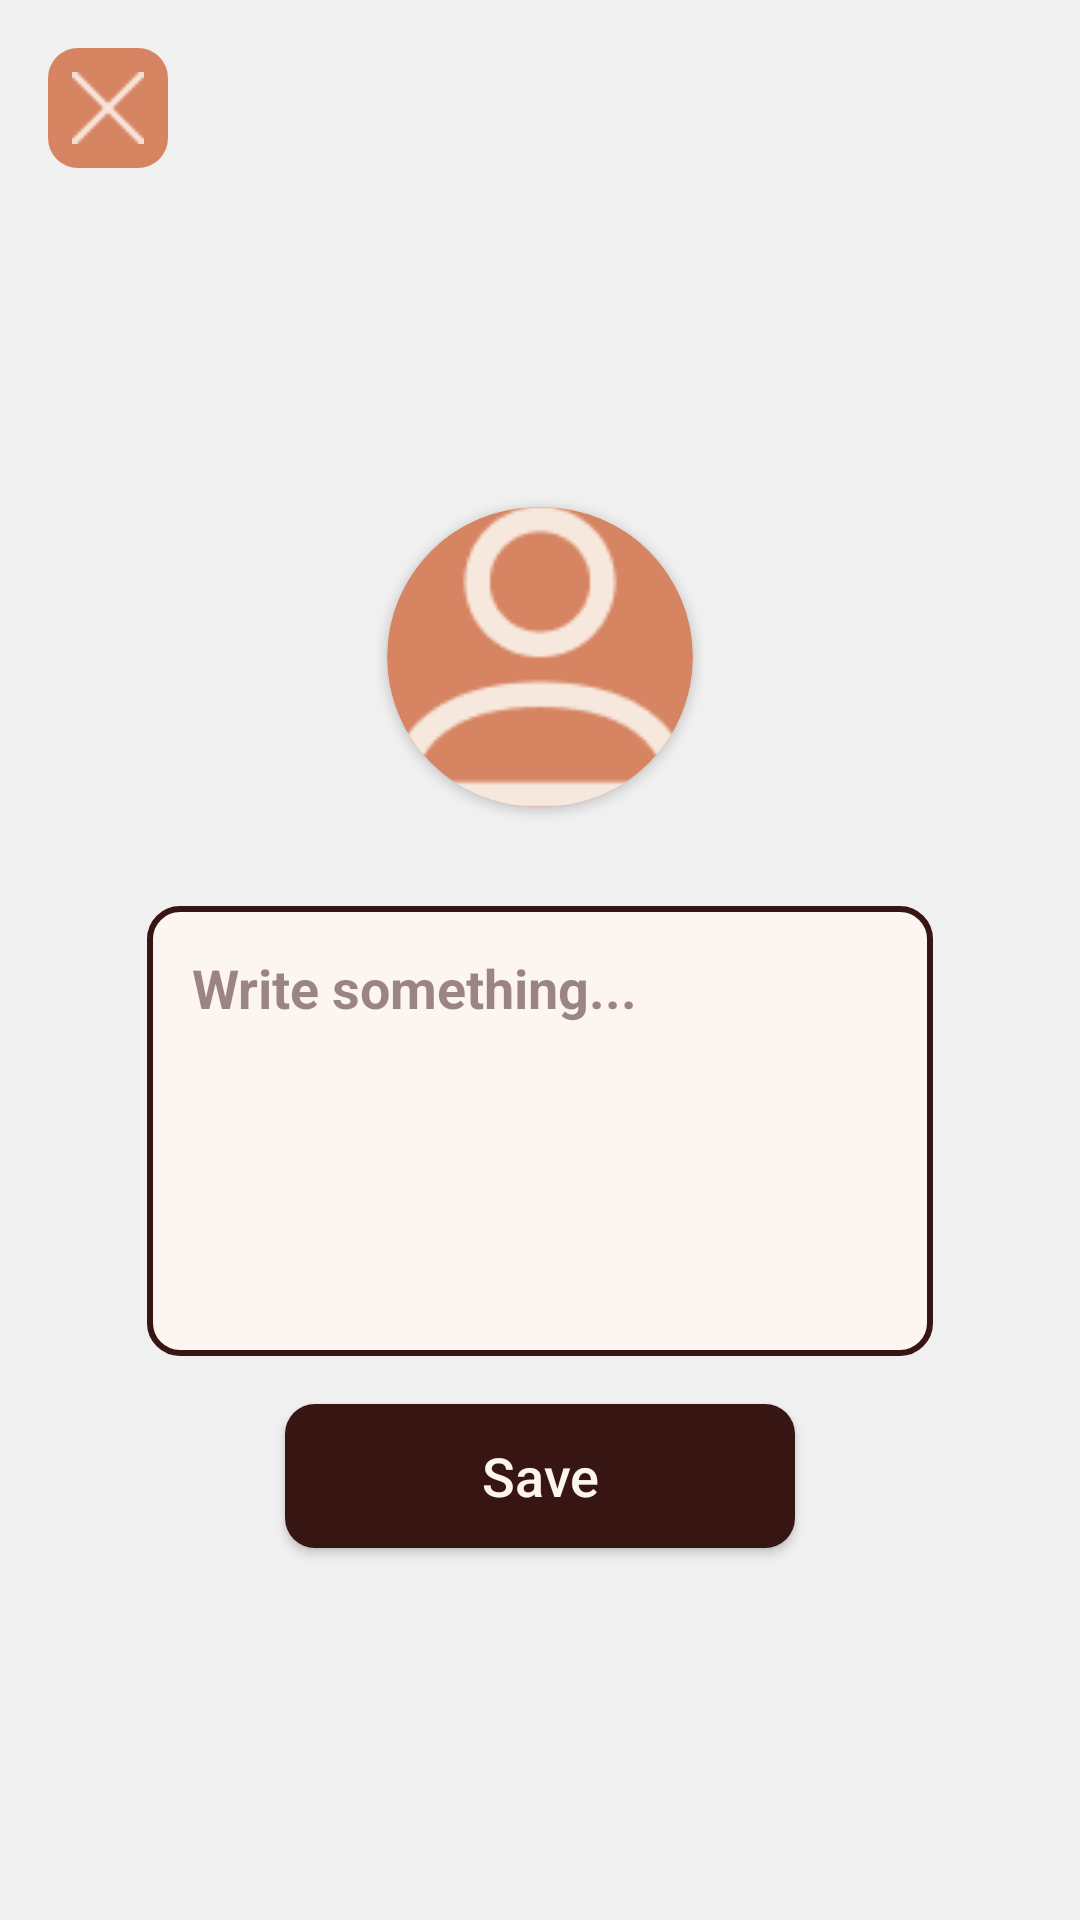

Icons on this 1080 x 1920 Android screen, each with its box as (x1, y1, x2, y2):
close: (48, 48, 168, 168)
